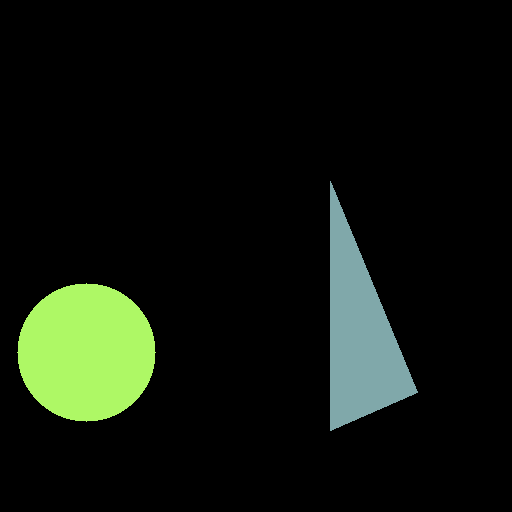circle: (17, 283, 155, 421)
triangle: (330, 181, 417, 430)
